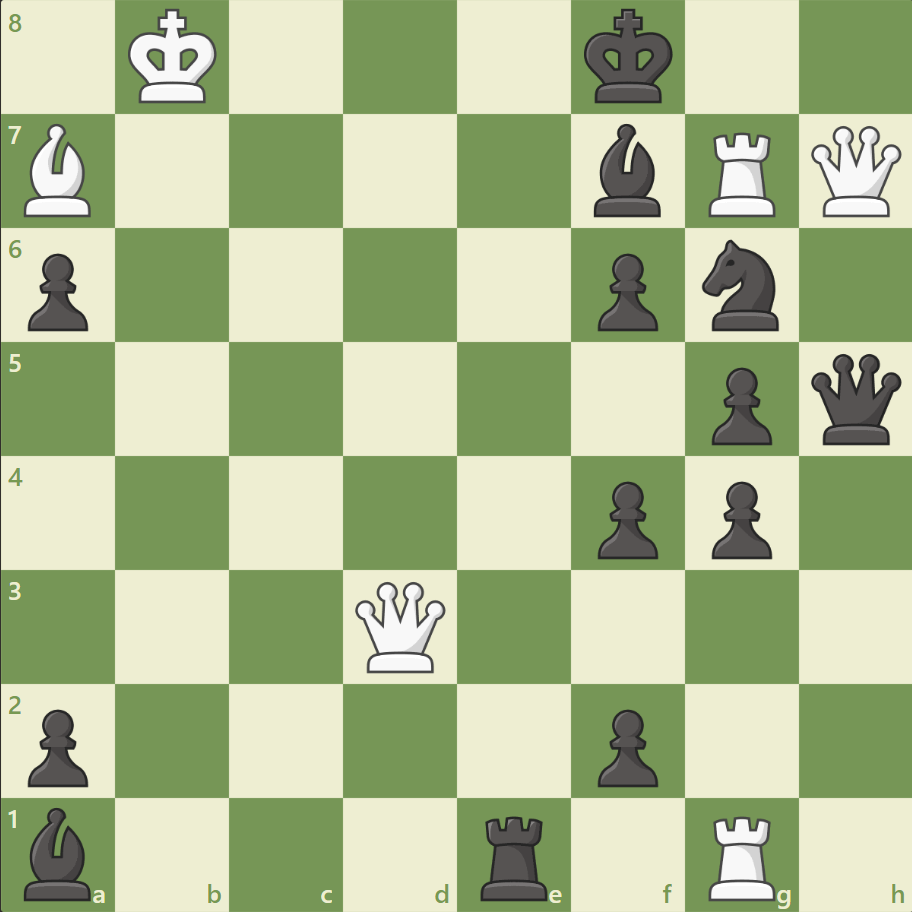B: (17, 120, 101, 222)
K: (124, 4, 224, 112)
Q: (805, 122, 904, 222), (351, 576, 450, 676)
R: (700, 806, 783, 904), (700, 125, 783, 222)
b: (17, 801, 101, 904), (585, 120, 669, 222)
k: (579, 4, 679, 112)
n: (692, 234, 789, 337)
p: (20, 246, 95, 337), (701, 359, 776, 450), (701, 473, 776, 564), (20, 700, 95, 791), (588, 246, 662, 337), (588, 473, 662, 564), (588, 700, 662, 791)
q: (805, 349, 904, 449)
r: (473, 806, 556, 904)
